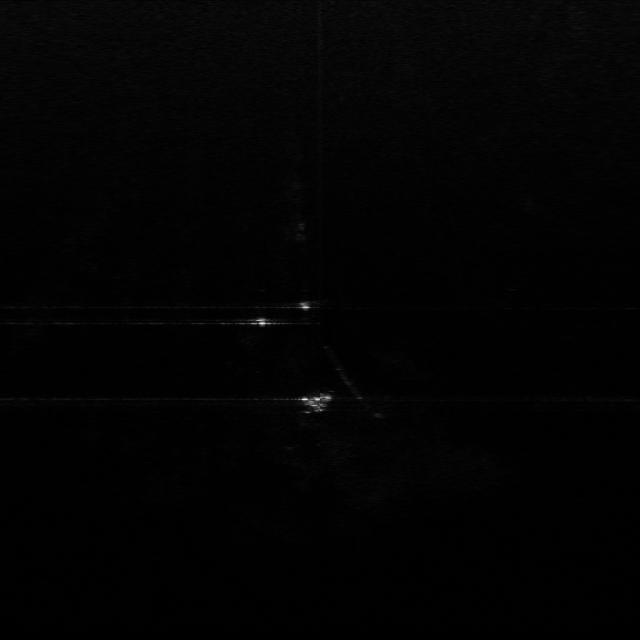rov: (296, 394, 334, 414)
